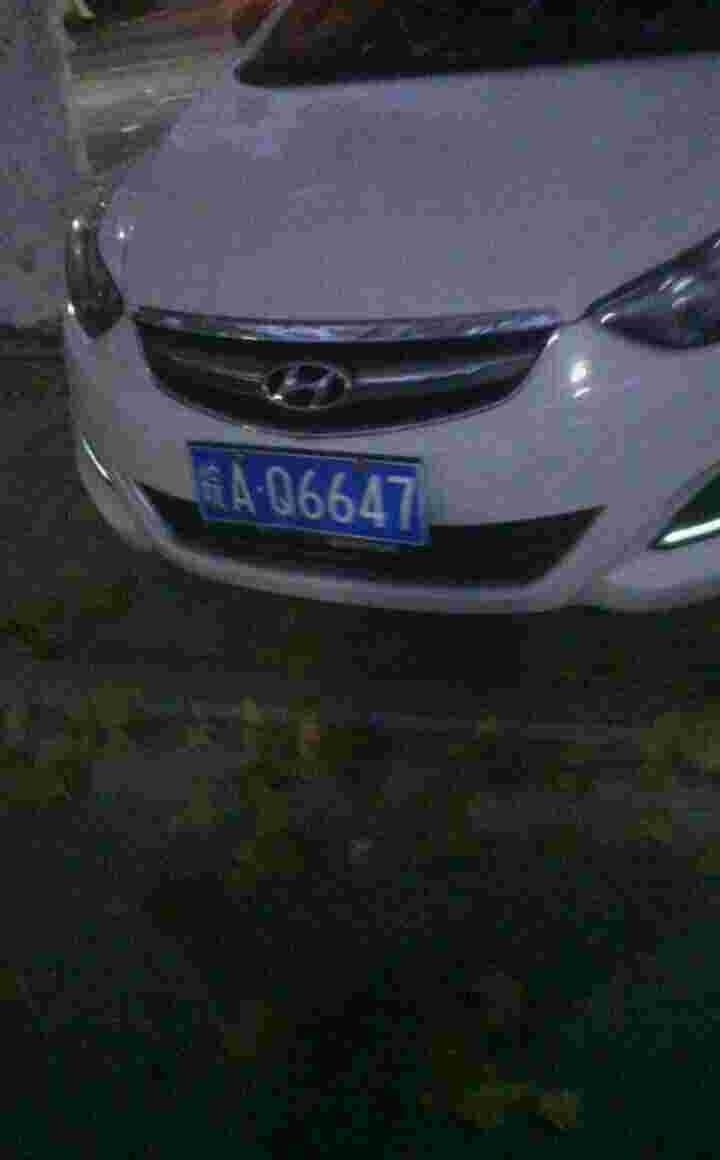plate: (184, 437, 435, 550)
